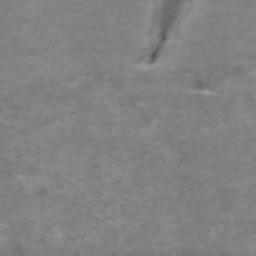Finishing roll printing: (148, 0, 184, 63), (193, 80, 212, 94)
